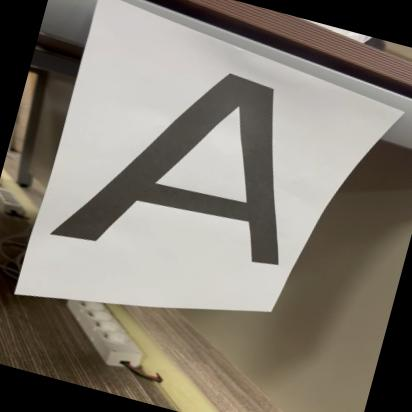seat: (48, 27, 328, 314)
